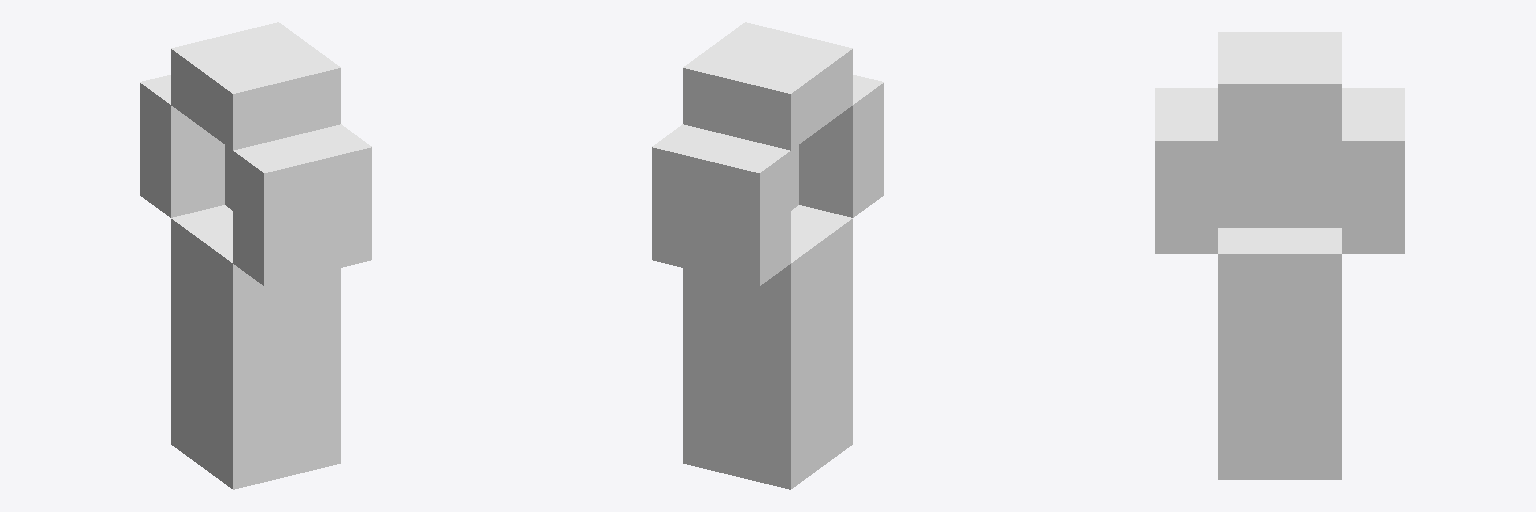
Rendered from scarh_is2.obj.
3 renders of one model, left to right at view 1: azimuth 30°, elevation 25°; view 2: azimuth 150°, elevation 25°; view 3: azimuth 270°, elevation 25°, orthographic.
Visible parts, largest first — view 1: Shape1, Shape4, Shape3, Shape2; view 2: Shape1, Shape2, Shape3, Shape4; view 3: Shape1, Shape3, Shape5, Shape2, Shape4.
Boxes of the visible parts, x1=… form: Shape1: x1=171, y1=205, x2=340, y2=489; Shape4: x1=233, y1=124, x2=371, y2=286; Shape3: x1=171, y1=22, x2=340, y2=150; Shape2: x1=140, y1=75, x2=224, y2=217; Shape1: x1=683, y1=205, x2=852, y2=489; Shape2: x1=652, y1=124, x2=790, y2=286; Shape3: x1=683, y1=22, x2=852, y2=150; Shape4: x1=799, y1=75, x2=883, y2=217; Shape1: x1=1218, y1=228, x2=1341, y2=479; Shape3: x1=1218, y1=32, x2=1341, y2=140; Shape5: x1=1218, y1=141, x2=1341, y2=227; Shape2: x1=1342, y1=88, x2=1404, y2=253; Shape4: x1=1155, y1=88, x2=1217, y2=253.
Size of the model in its own units: 0.125 by 0.4375 by 0.25.